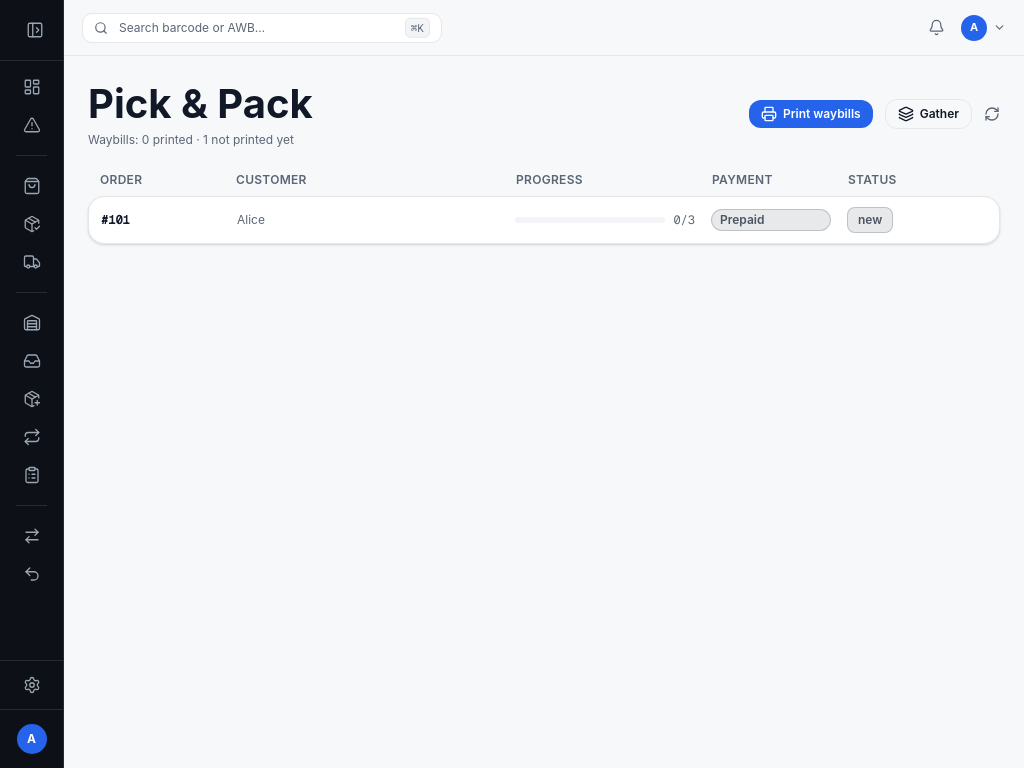
Scenario: pack screen — queue mode › a places request that never answers: the screen shows and scanning works at once, no chips
Click the text "#101". click: {"x": 115, "y": 220}
box: [101, 212, 130, 228]
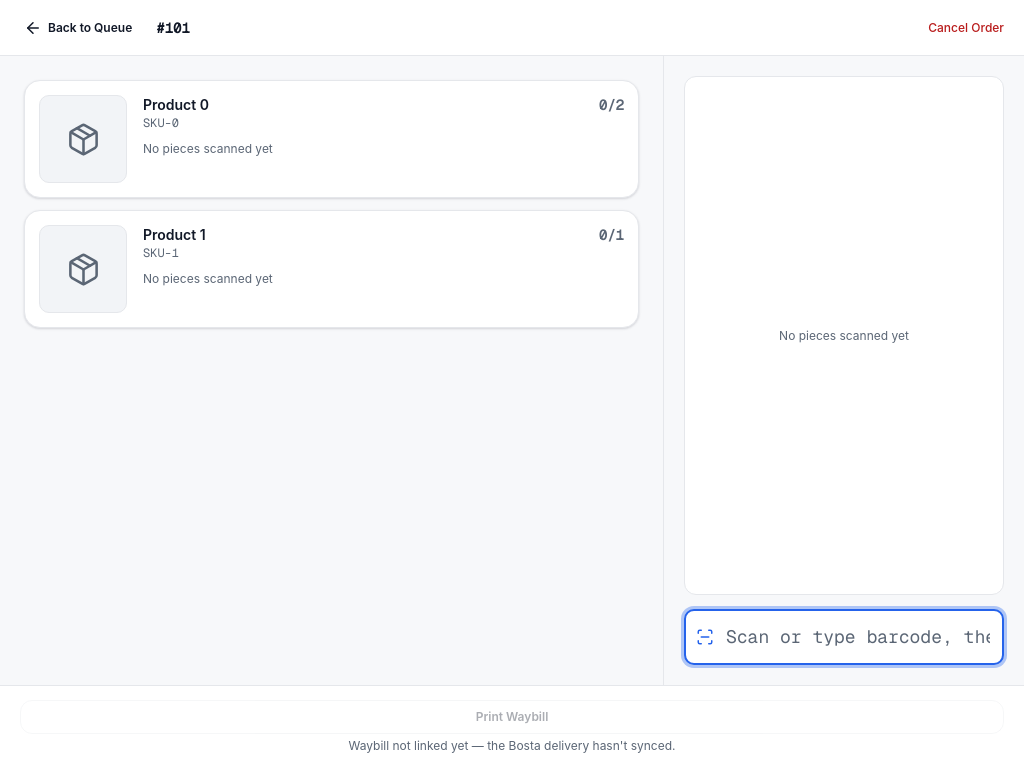
expect the element with test id "fulfill-pick" is shown: met
expect the text "0/2" is shown: met, box [599, 95, 624, 115]
Type "PIECE00" into the field with class "input-scan". click: {"x": 844, "y": 637}
box: [684, 609, 1004, 665]
Then press Enter
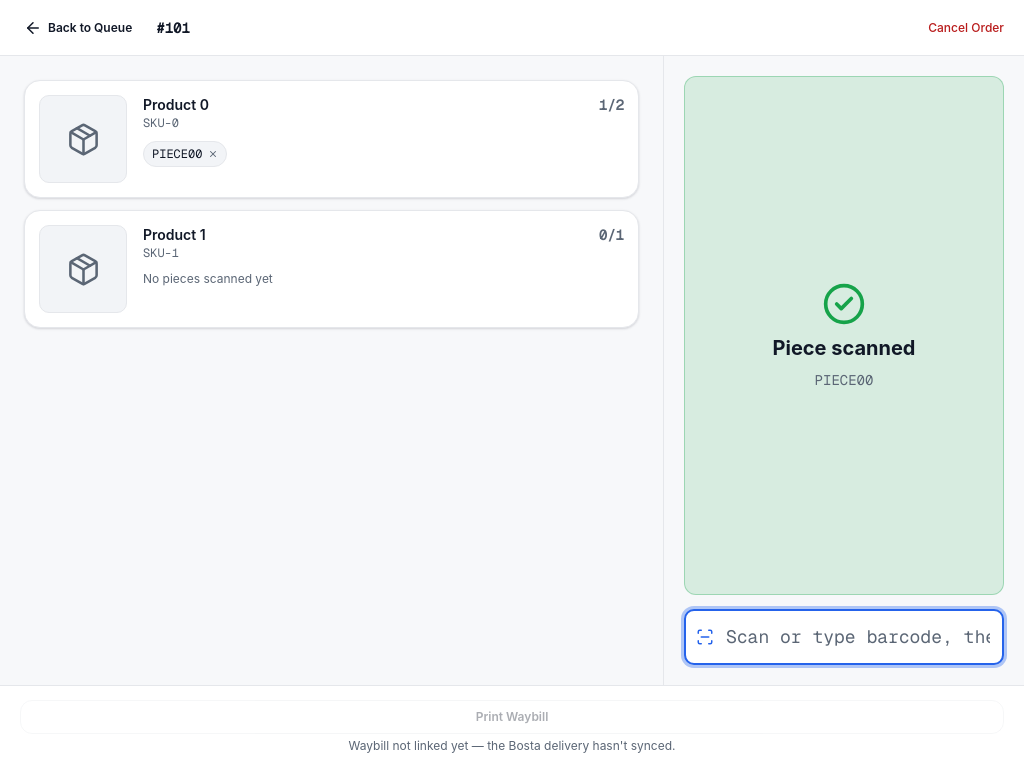
expect the text "1/2" is shown: met, box [599, 95, 624, 115]
